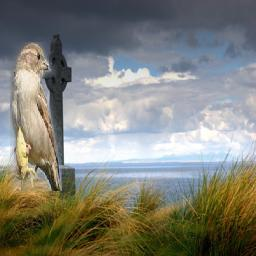Sparrow: (10, 43, 62, 192)
